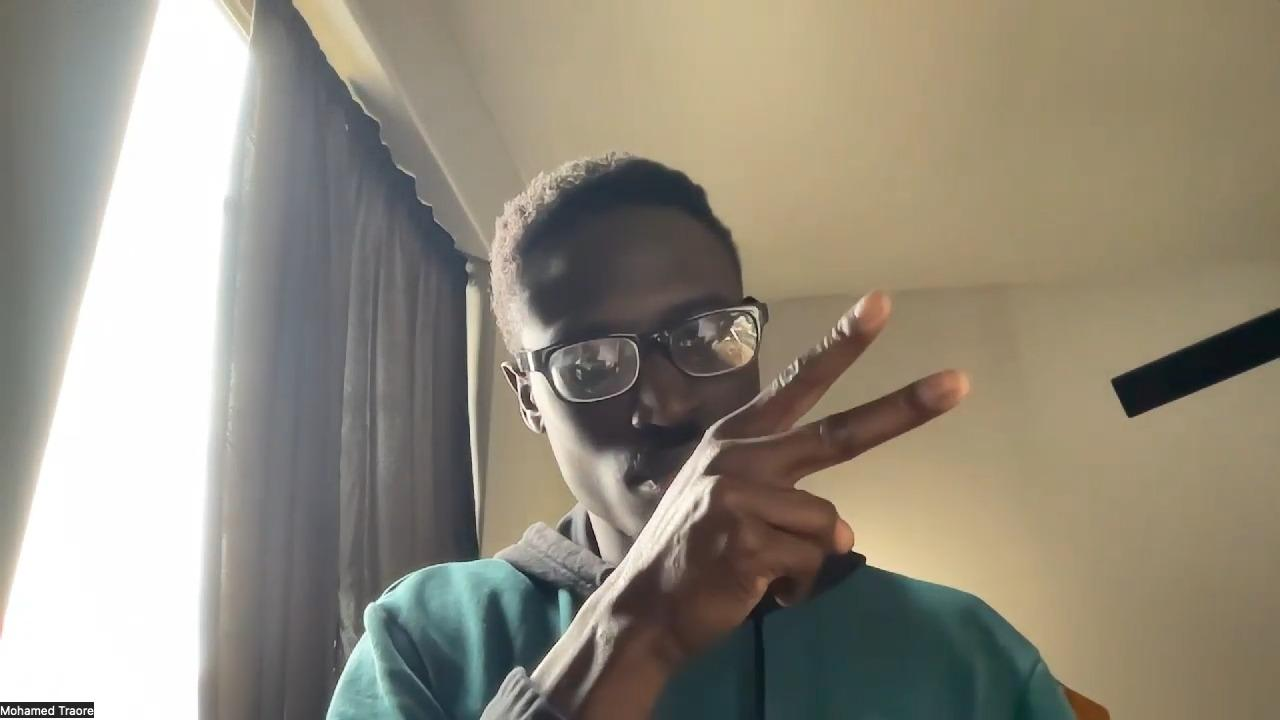Scissors: (618, 292, 971, 645)
